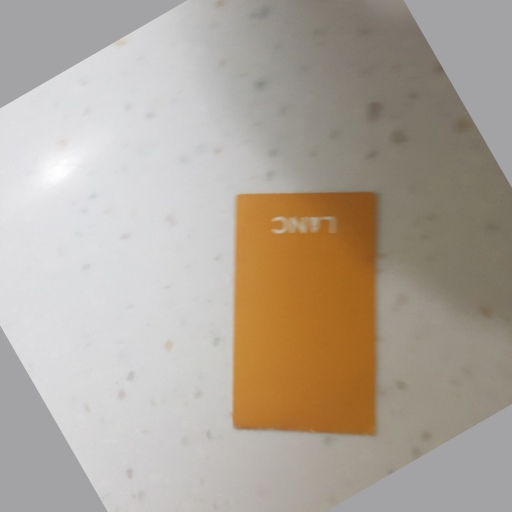Paper_2: (228, 191, 395, 444)
